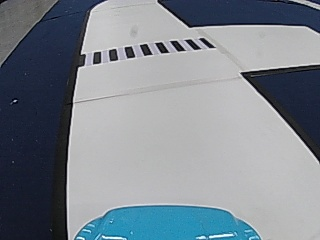CrossWalk: (82, 37, 210, 64)
